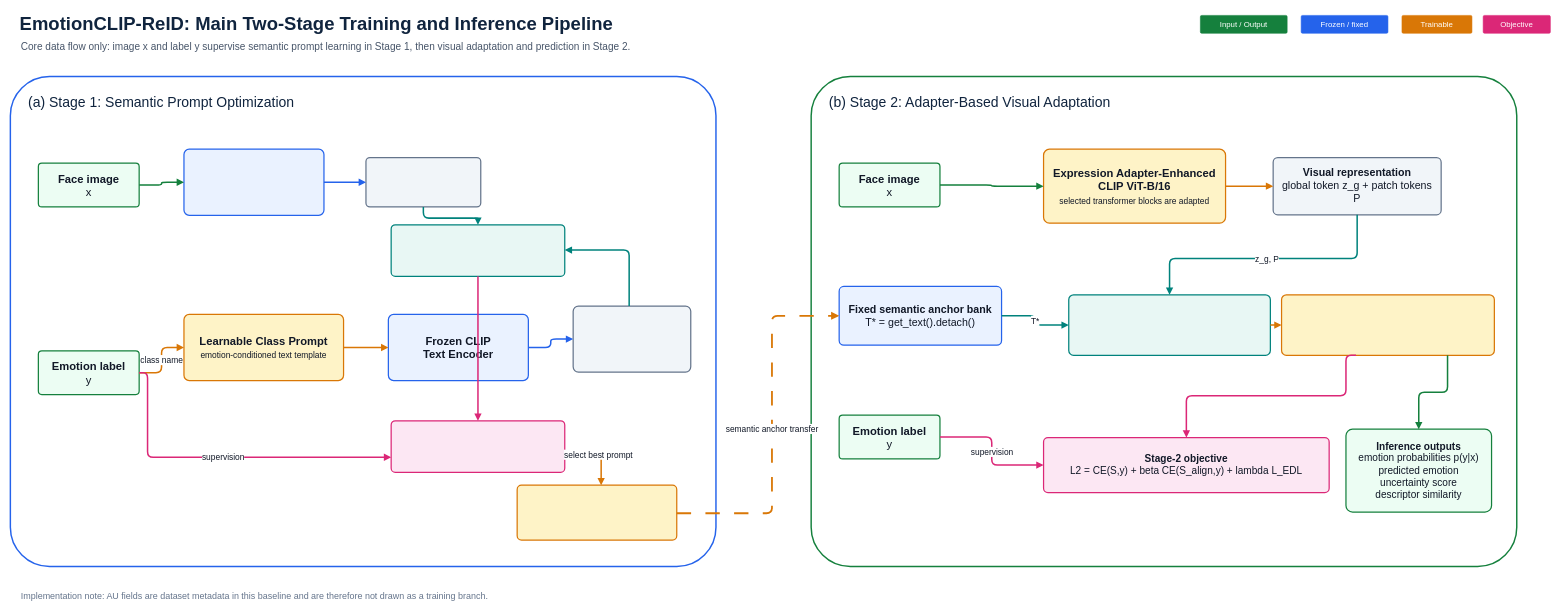
Some shapes in this 1560 by 614 pixel diagram are drawn without their labels. The shapes that lost their labels are listed below. From the top down, each one's centre as x and y in pixels, then its label:
At point (253, 182): "Frozen CLIP Image Encoder".
At point (423, 182): "Visual embedding z_v".
At point (477, 250): "Image-text similarity matrix S1 = scale(z_v T^T)".
At point (631, 338): "Class semantic anchors T = {z_t^c}".
At point (1169, 325): "Classification and semantic-alignment heads S_cls, S_global, S_local".
At point (1388, 325): "Fused emotion logits S = w_cls S_cls + w_g S_g + w_l S_l".
At point (477, 446): "Stage-1 objective L1 = CE(S1, y)".
At point (596, 512): "Optimized prompt state recompute fixed anchor bank T*".
